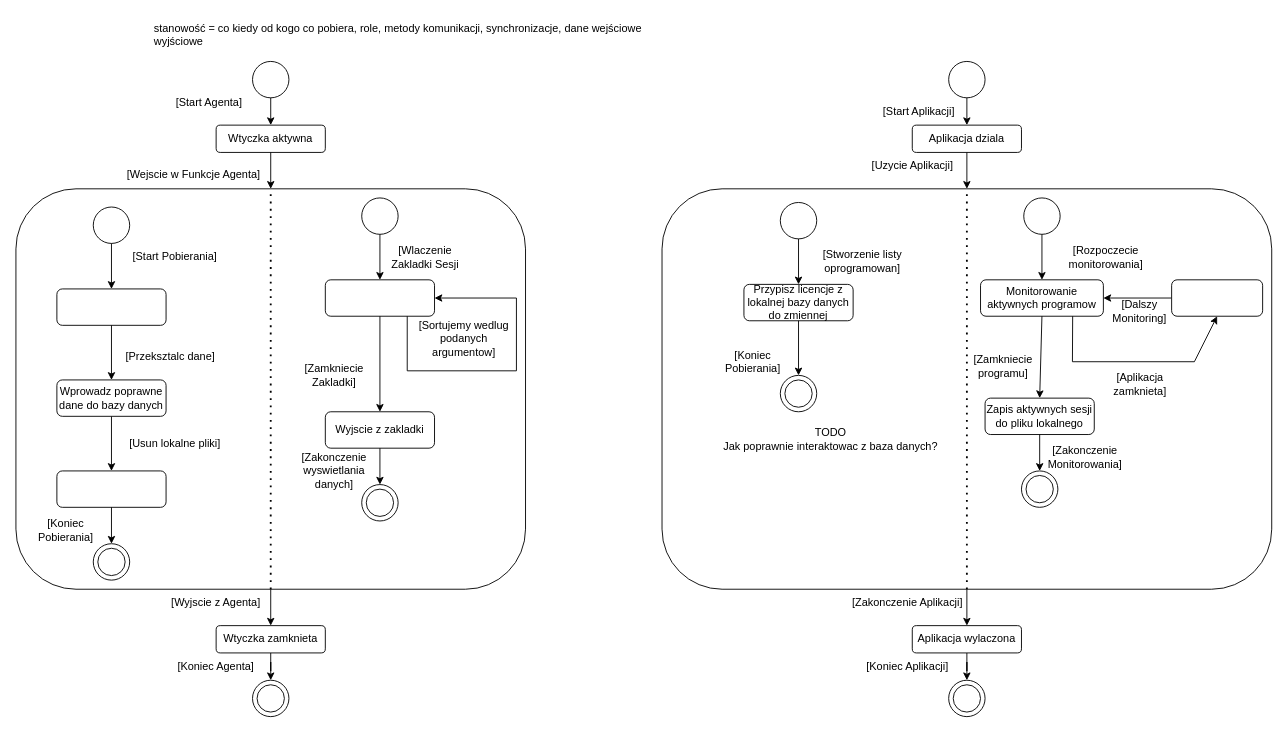
The diagram is 1288 pixels wide and 733 high, and some of its shapes have lost their labels. The shapes that lost their labels are listed below. From the top down, each one's box as (x1, y1, x2, y2) in pixels, then its label:
(56, 288, 166, 325): Wyswietl plik lokalny csv
(324, 279, 435, 316): Lista wszystkich sesji
(1171, 279, 1263, 316): Zapis sesji do pliku lokalnego
(56, 470, 166, 507): Dane sa zapisane oraz wyczyszcone lokalnie
